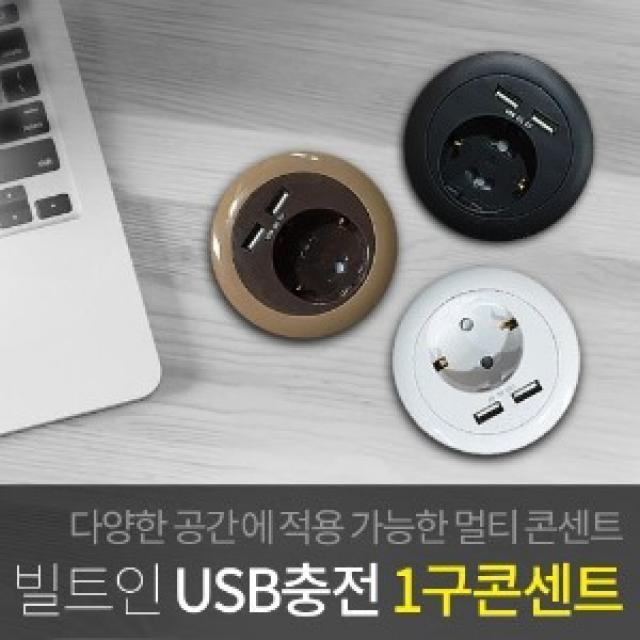typeb: (387, 42, 591, 228), (428, 265, 603, 474), (232, 161, 397, 353)
